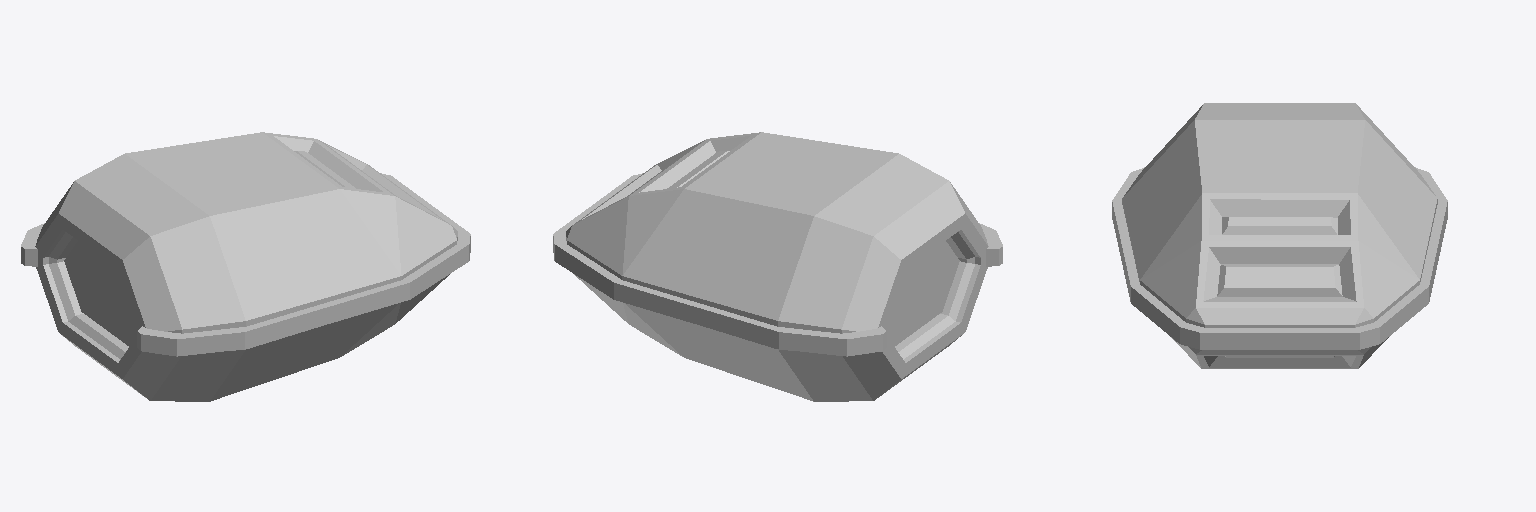
File: Spacestation_Propulsion_Hyperdrive_Rearmount_Small.obj
3 renders of one model, left to right at view 1: azimuth 30°, elevation 25°; view 2: azimuth 150°, elevation 25°; view 3: azimuth 270°, elevation 25°, orthographic.
Visible parts, largest first — view 1: object6, object3, object7; view 2: object6, object3, object7; view 3: object6, object3, object2, object4.
Boxes of the visible parts, x1=… form: object6: x1=35, y1=132, x2=457, y2=401; object3: x1=21, y1=173, x2=470, y2=356; object7: x1=64, y1=241, x2=137, y2=346; object6: x1=566, y1=132, x2=988, y2=401; object3: x1=553, y1=173, x2=1002, y2=356; object7: x1=886, y1=241, x2=959, y2=346; object6: x1=1122, y1=103, x2=1437, y2=368; object3: x1=1112, y1=167, x2=1447, y2=349; object2: x1=1217, y1=264, x2=1342, y2=296; object4: x1=1222, y1=217, x2=1337, y2=234.
Bounding box in the file's own units: 1.6 × 0.81 × 1.33.